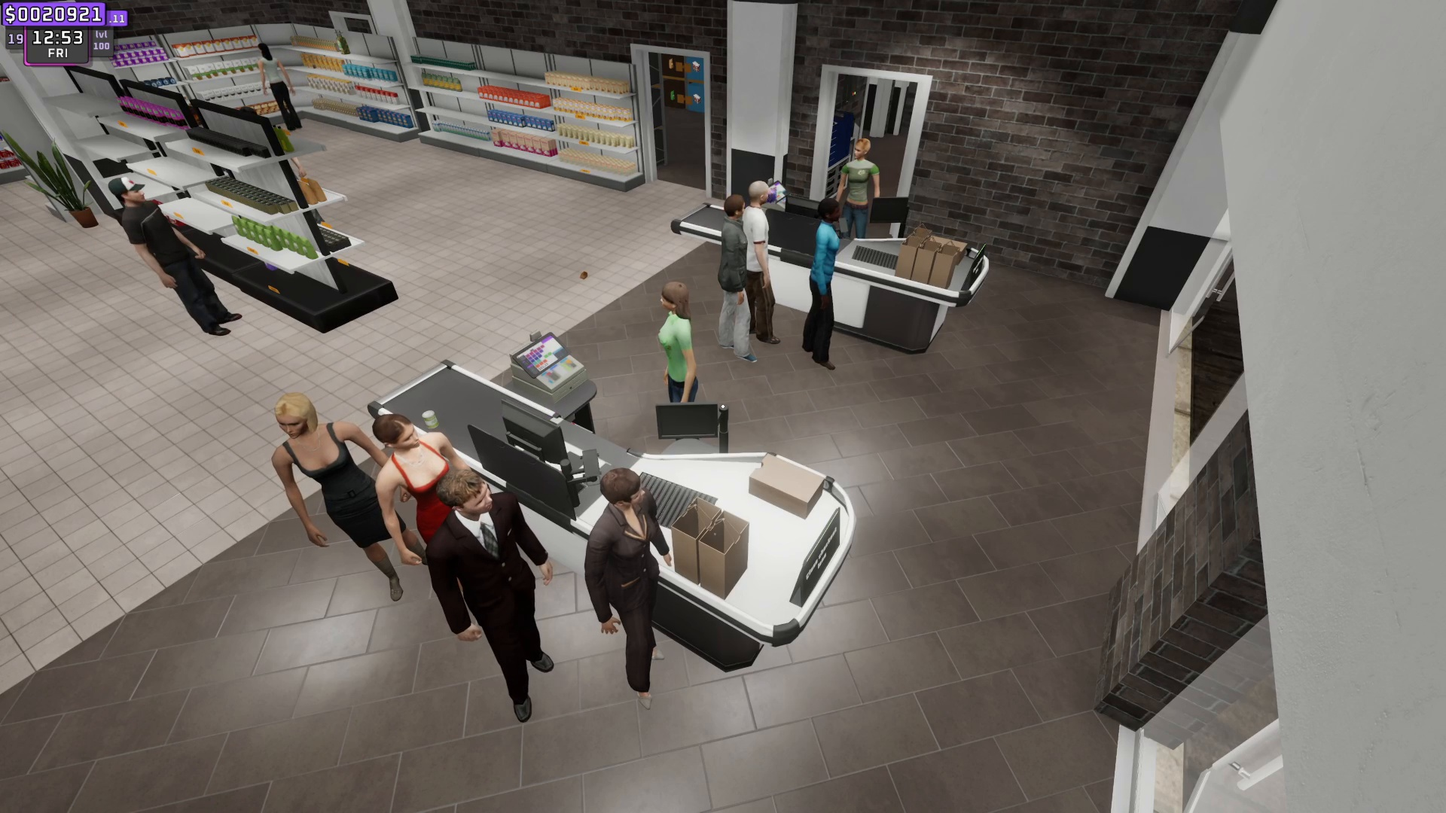Client: (438, 472, 564, 714), (264, 404, 419, 592), (587, 469, 678, 698), (367, 402, 464, 574), (804, 194, 847, 370), (710, 200, 755, 356), (741, 181, 783, 341)
Employee: (647, 281, 708, 406), (833, 136, 878, 233)
